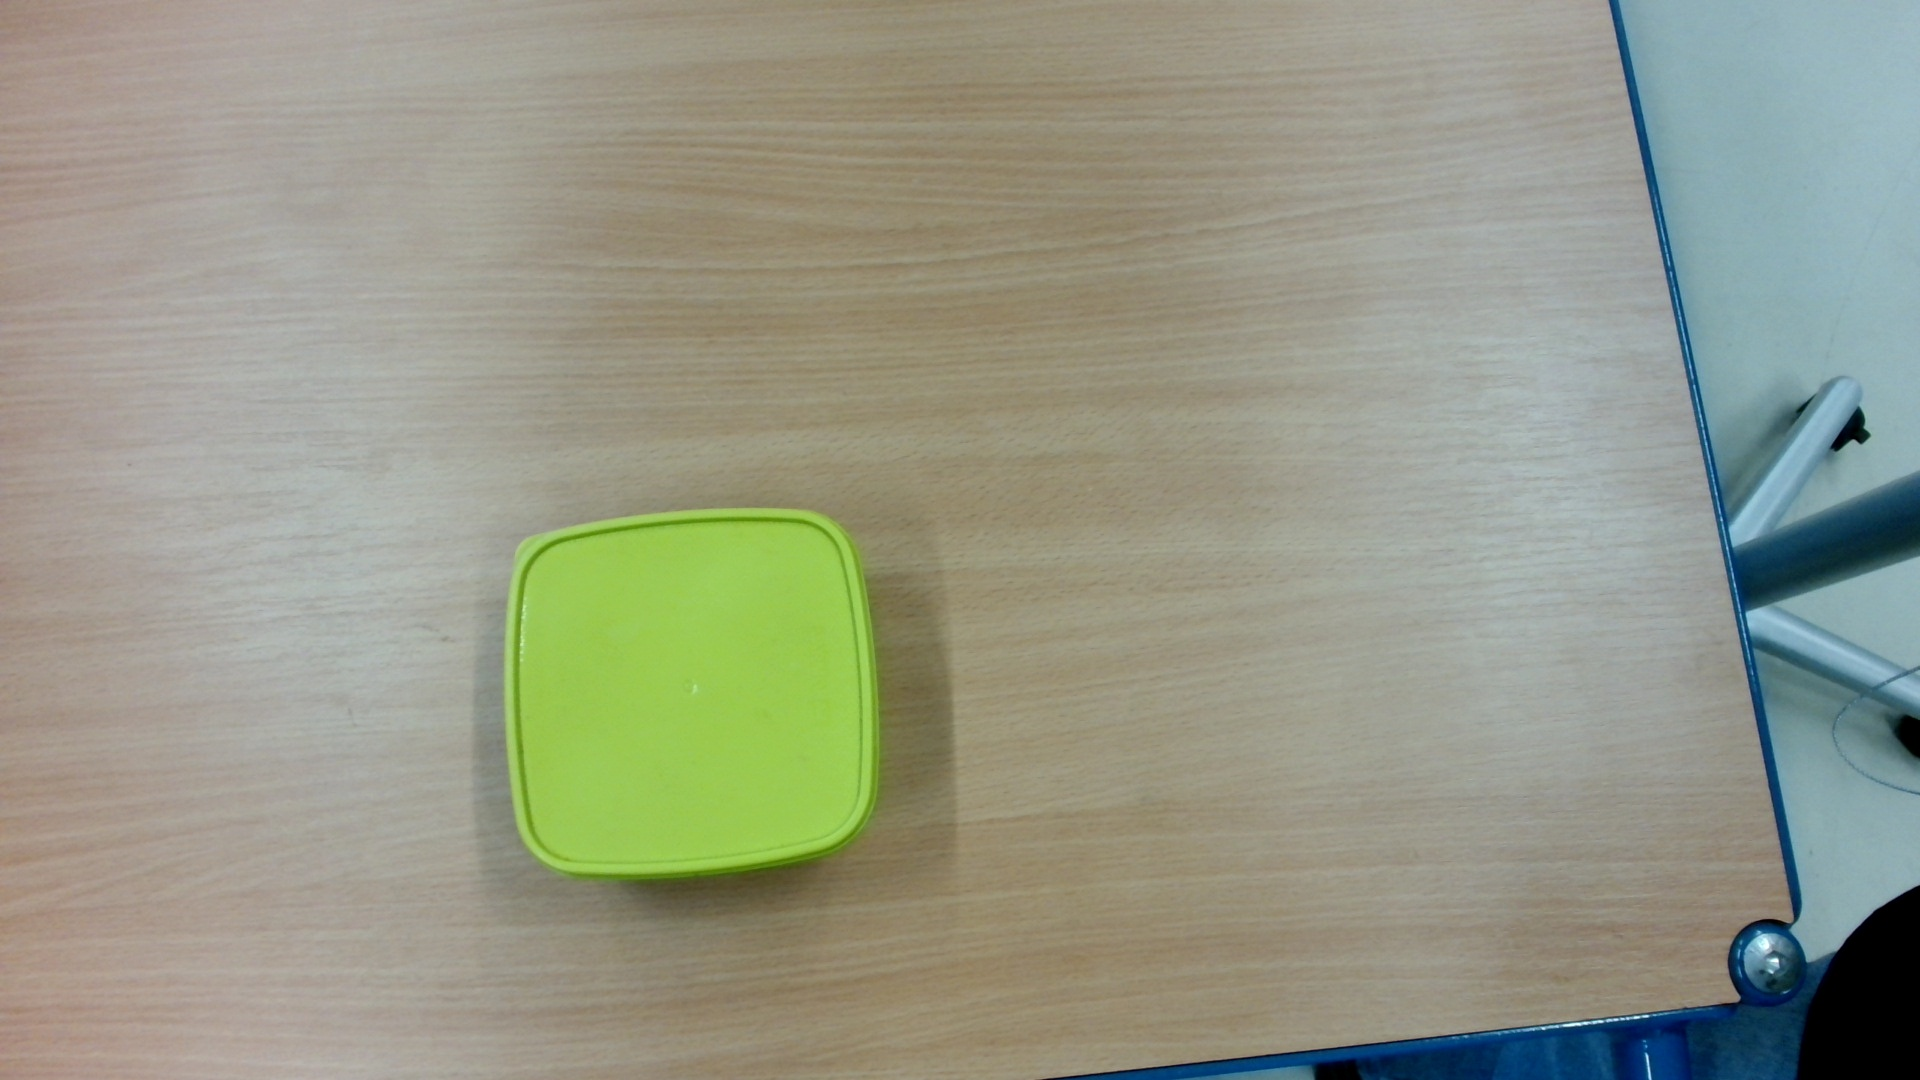Box: (484, 501, 887, 895)
